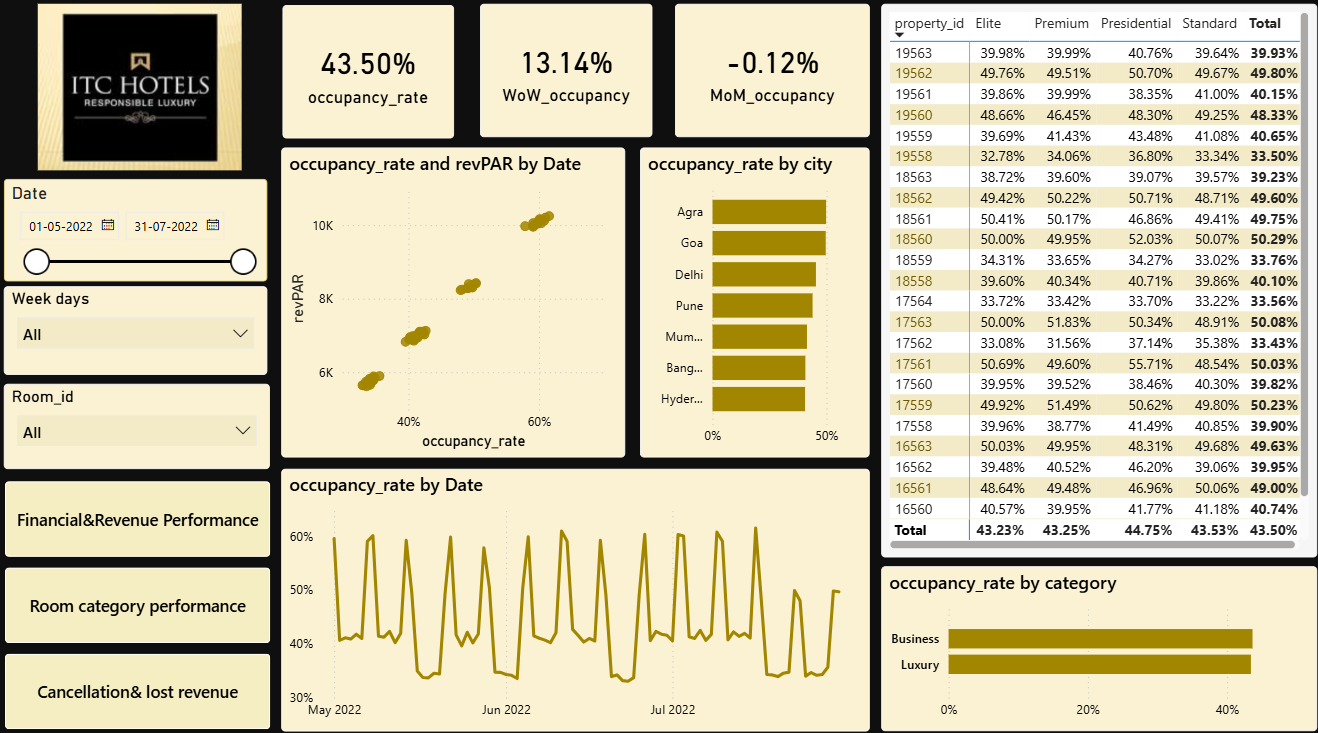

The page's visual inventory and layout, read from the dashboard file:
{"tool":"powerbi","page":{"name":"Occupancy","canvas":[1280,720],"ordinal":1},"visuals":[{"type":"card","fields":{"Values":["z.occupancy_rate"]},"box":[272.7,9.7,165.3,129.1],"z":0},{"type":"lineChart","fields":{"Category":["Calendar.Date"],"Y":["z.occupancy_rate"]},"box":[271.4,457.2,568.2,253.4],"z":1000},{"type":"scatterChart","fields":{"X":["z.occupancy_rate"],"Y":["z.revPAR"],"Category":["Calendar.Date"]},"box":[271.4,147.2,331.8,299.2],"z":2000},{"type":"card","fields":{"Values":["z.MoM_occupancy"]},"box":[651.5,8.4,188.2,129.1],"z":3000},{"type":"card","fields":{"Values":["z.WoW_occupancy"]},"box":[463.3,8.4,166.5,129.1],"z":4000},{"type":"barChart","fields":{"Category":["hotels.city"],"Y":["z.occupancy_rate"]},"box":[617.7,147.2,222,299.2],"z":5000},{"type":"barChart","fields":{"Category":["hotels.category"],"Y":["z.occupancy_rate"]},"box":[850.5,551.3,421,159.3],"z":6000},{"type":"pageNavigator","box":[4.8,469.3,257,241.3],"z":7000},{"type":"image","box":[8.4,8.4,253.4,160.5],"z":8000},{"type":"slicer","title":"Date","fields":{"Values":["Calendar.Date"]},"box":[3.6,177.3,254.6,98.9],"z":9000},{"type":"pivotTable","fields":{"Rows":["hotels.property_id"],"Columns":["rooms.room_class"],"Values":["z.occupancy_rate"]},"box":[850.5,8.4,421,534.5],"z":10000},{"type":"slicer","title":"Week days","fields":{"Values":["Calendar.Weedays"]},"box":[3.6,281.1,254.6,85.7],"z":11000},{"type":"slicer","title":"Room_id","fields":{"Values":["rooms.room_id"]},"box":[3.6,375.2,257,82],"z":12000}]}

Visuals, with their boxes in screenshot pixels (x1, y1, x2, y2), scaled from the page's 1280x720 canvas onto the 1318x733 screenshot:
card - z.occupancy_rate: (left=281, top=10, right=451, bottom=141)
lineChart - Calendar.Date x z.occupancy_rate: (left=279, top=465, right=865, bottom=723)
scatterChart - z.occupancy_rate x z.revPAR: (left=279, top=150, right=621, bottom=454)
card - z.MoM_occupancy: (left=671, top=9, right=865, bottom=140)
card - z.WoW_occupancy: (left=477, top=9, right=648, bottom=140)
barChart - hotels.city x z.occupancy_rate: (left=636, top=150, right=865, bottom=454)
barChart - hotels.category x z.occupancy_rate: (left=876, top=561, right=1309, bottom=723)
pageNavigator: (left=5, top=478, right=270, bottom=723)
image: (left=9, top=9, right=270, bottom=172)
"Date" slicer: (left=4, top=181, right=266, bottom=281)
pivotTable - hotels.property_id x rooms.room_class: (left=876, top=9, right=1309, bottom=553)
"Week days" slicer: (left=4, top=286, right=266, bottom=373)
"Room_id" slicer: (left=4, top=382, right=268, bottom=465)
